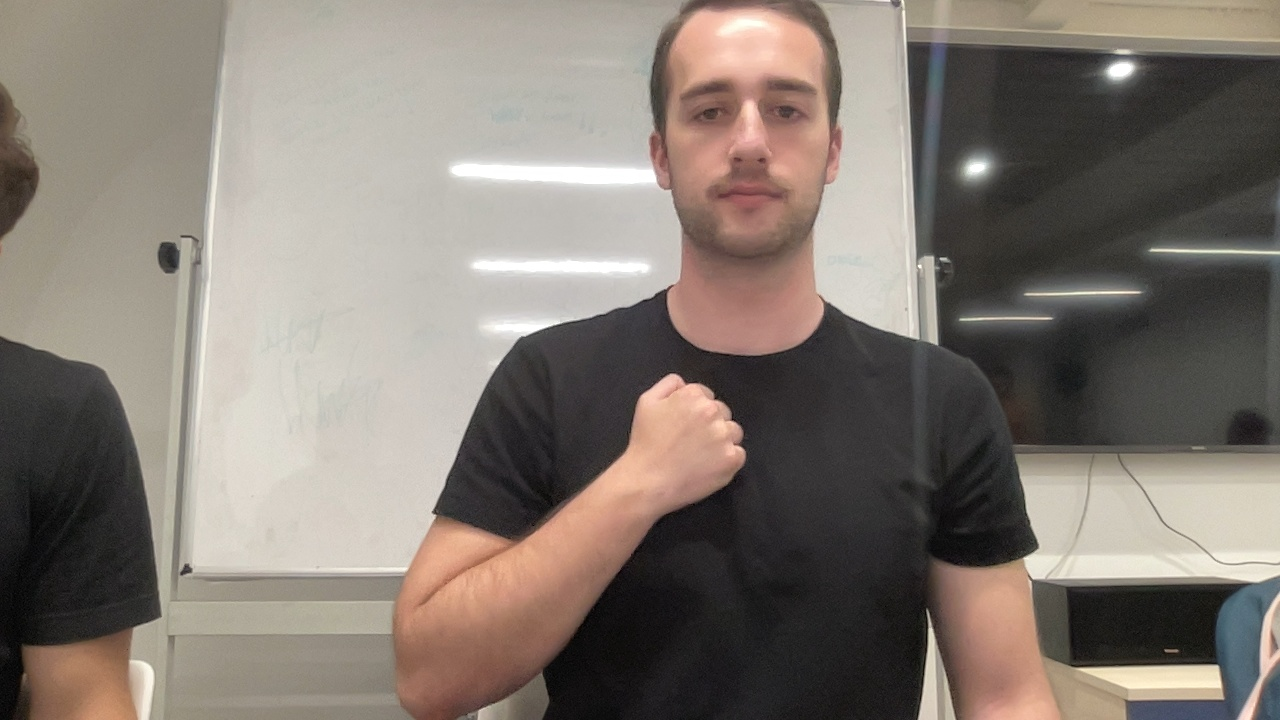Sorry: (388, 369, 752, 720)
